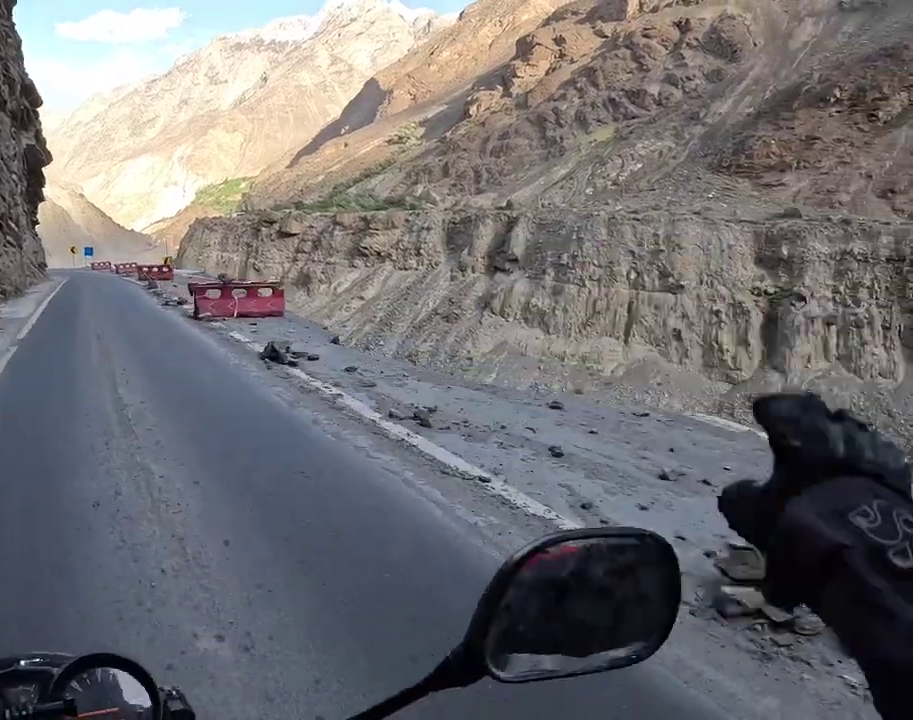unexpected: (139, 259, 588, 483)
